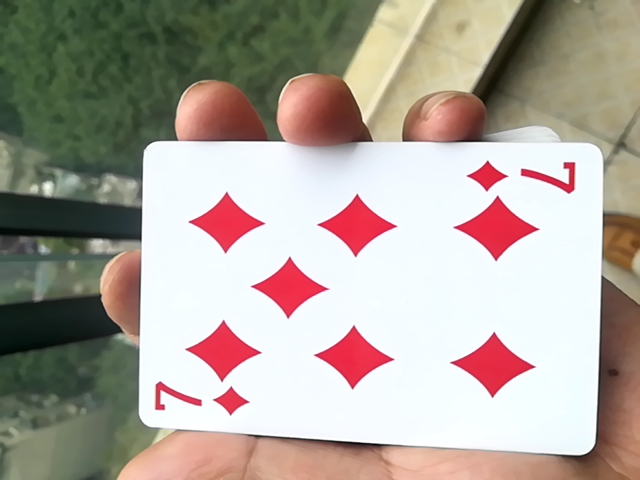fk 7: (120, 137, 600, 456)
